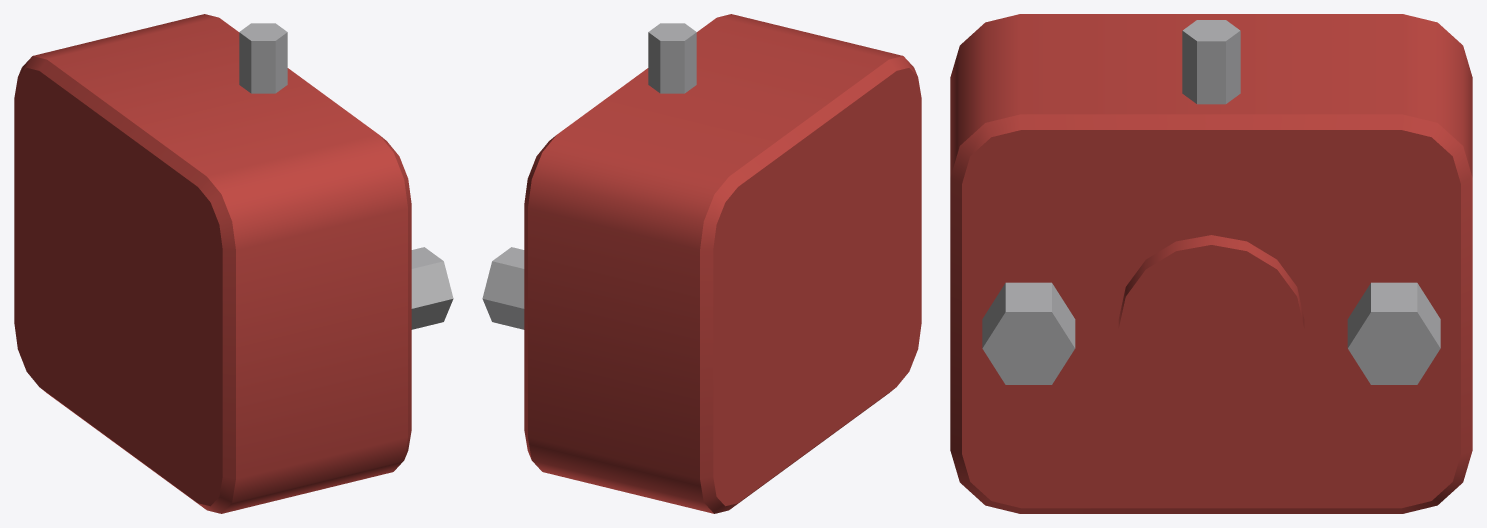
Rendered from twin_piston.glb.
The picture shows the model from 3 angles, left to right: view 1: azimuth 30°, elevation 25°; view 2: azimuth 150°, elevation 25°; view 3: azimuth 270°, elevation 25°; orthographic projection. The views are drawn at different scales.
Visible parts, largest first — view 1: lod0; view 2: lod0; view 3: lod0.
Part boxes in pixels (x1,y1,x2,y2): lod0: [14, 14, 453, 513]; lod0: [482, 14, 921, 513]; lod0: [950, 14, 1472, 513].
Size of what is drawn, in the model's own units: 0.057 by 0.088 by 0.09.
